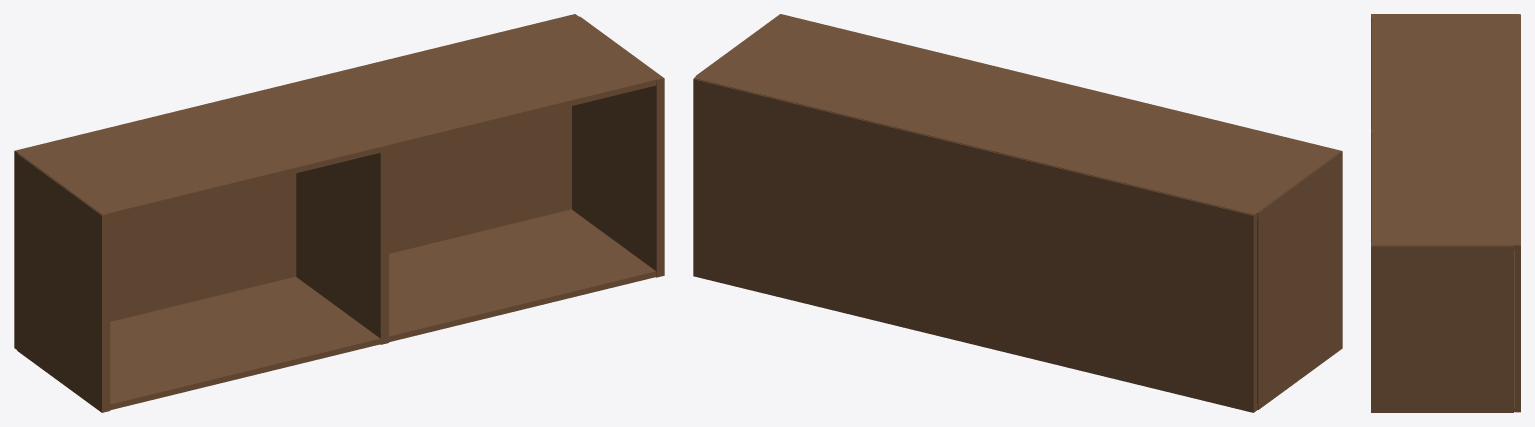
The model's file is Shelf_15.fbx.
3 renders of one model, left to right at view 1: azimuth 30°, elevation 25°; view 2: azimuth 150°, elevation 25°; view 3: azimuth 270°, elevation 25°, orthographic. The views are drawn at different scales.
Visible parts, largest first — view 1: Shelf_15; view 2: Shelf_15; view 3: Shelf_15.
Part boxes in pixels (x1,y1,x2,y2): Shelf_15: (14,14,664,412); Shelf_15: (693,14,1342,412); Shelf_15: (1371,14,1520,412).
Size of the model in its own units: 220 by 59.83 by 73.72.
